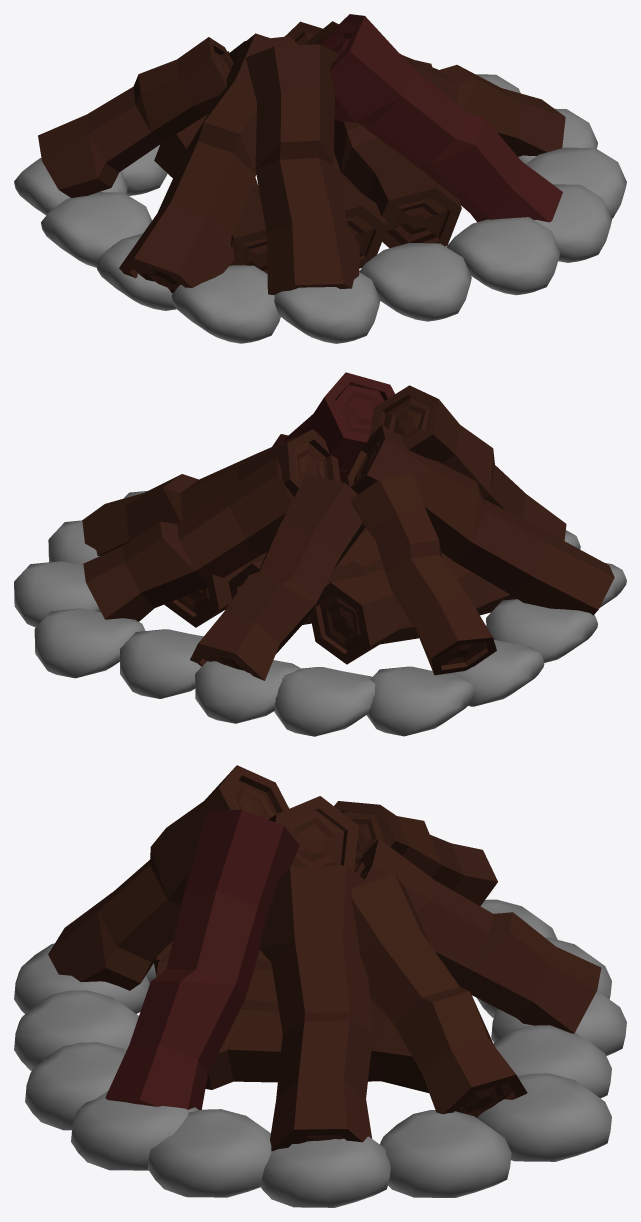
The model's file is hoguera.fbx.
3 renders of one model, top to bottom at view 1: azimuth 30°, elevation 25°; view 2: azimuth 150°, elevation 25°; view 3: azimuth 270°, elevation 25°, orthographic. The views are drawn at different scales.
Parts seen in each view (by area): view 1: Rock1.001_Icosphere.012; view 2: Rock1.001_Icosphere.012; view 3: Rock1.001_Icosphere.012.
Boxes of the visible parts, <box> form: Rock1.001_Icosphere.012: <box>14,14,626,343</box>; Rock1.001_Icosphere.012: <box>14,372,626,736</box>; Rock1.001_Icosphere.012: <box>14,765,626,1207</box>.
Size of the model in its own units: 202 by 88.95 by 183.
